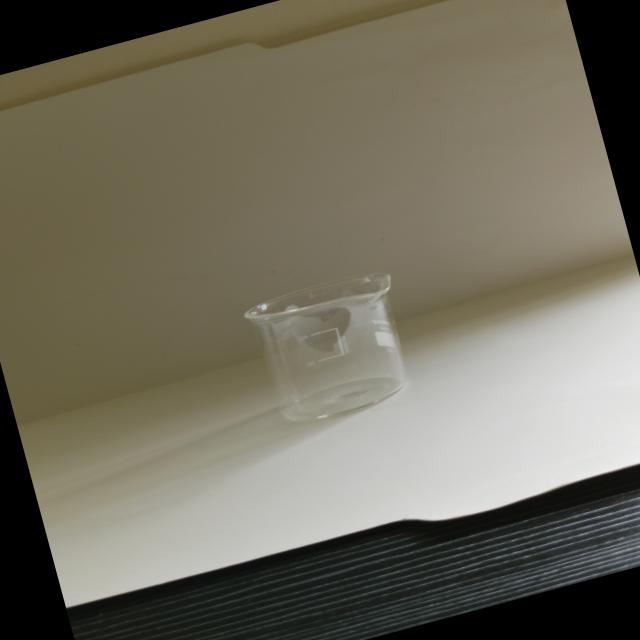beaker: (234, 260, 429, 437)
